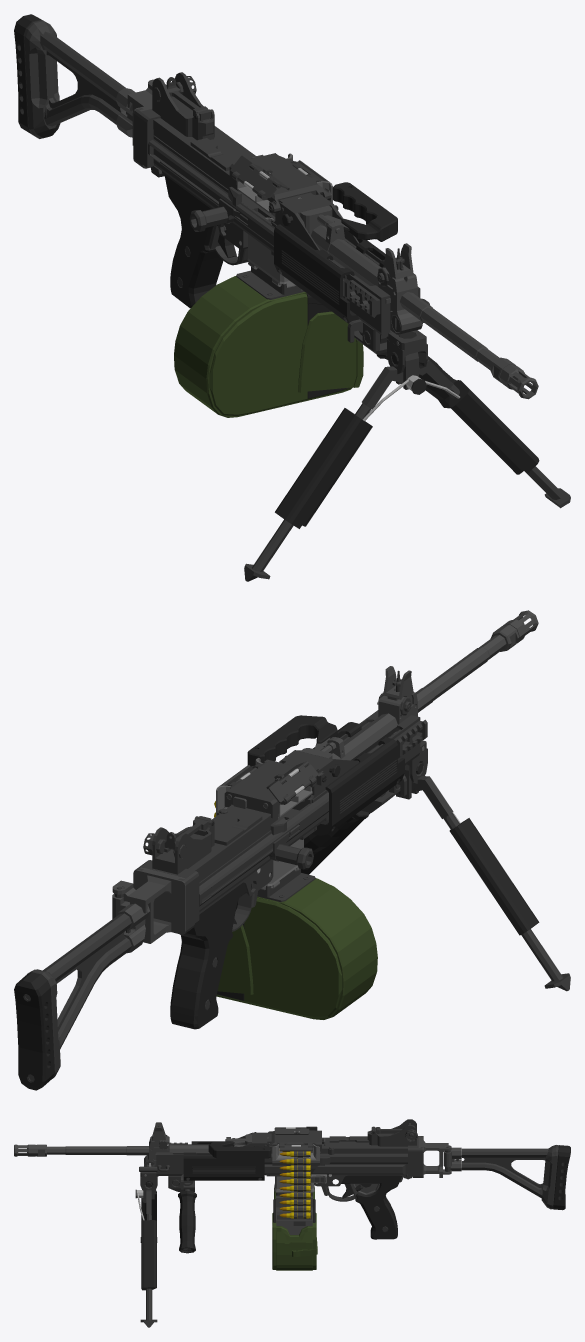
File: negev.glb
The picture shows the model from 3 angles, top to bottom: view 1: azimuth 30°, elevation 25°; view 2: azimuth 150°, elevation 25°; view 3: azimuth 270°, elevation 25°; orthographic projection. The views are drawn at different scales.
Visible parts, largest first — view 1: IWI Negev NG-5 2, IWI Negev NG-5 2 Ammo Bag 1, IWI Negev NG-5 2 Barrel 1, IWI Negev NG-5 2 Stock 1 Part 1_IWI Negev NG-5 2 Material 2_, IWI Negev NG-5 2 Bipod Leg 1, IWI Negev NG-5 2 Ammo Bag 1 Cover 1_IWI Negev NG-5 2 Materia, IWI Negev NG-5 2 Bipod Leg 1.001_IWI Negev NG-5 2 Material 4, IWI Negev NG-5 2 Carry Handle 1_IWI Negev NG-5 2 Material 4_, IWI Negev NG-5 2 Rearsight 1, IWI Negev NG-5 2 Top Cover 1, IWI Negev NG-5 2 Stock 1 Part 1_IWI Negev NG-5 2 Material 4_, IWI Negev NG-5 2 Bipod Leg 1.001_IWI Negev NG-5 2 Material 2 (+5 smaller); view 2: IWI Negev NG-5 2, IWI Negev NG-5 2 Ammo Bag 1, IWI Negev NG-5 2 Barrel 1, IWI Negev NG-5 2 Bipod Leg 1, IWI Negev NG-5 2 Stock 1 Part 1_IWI Negev NG-5 2 Material 2_, IWI Negev NG-5 2 Stock 1 Part 1_IWI Negev NG-5 2 Material 4_, IWI Negev NG-5 2 Stock 1, IWI Negev NG-5 2 Top Cover 1, IWI Negev NG-5 2 Carry Handle 1_IWI Negev NG-5 2 Material 4_, IWI Negev NG-5 2 Rearsight 1, IWI Negev NG-5 2 Ammo Bag 1 Cover 1_IWI Negev NG-5 2 Materia, IWI Negev NG-5 2 Stock 1 Part 1_IWI Negev NG-5 2 Material 1_ (+4 smaller); view 3: IWI Negev NG-5 2, IWI Negev NG-5 2 Stock 1 Part 1_IWI Negev NG-5 2 Material 2_, IWI Negev NG-5 2 Barrel 1, IWI Negev NG-5 2 Ammo Bag 1 Cover 1_IWI Negev NG-5 2 Materia, IWI Negev NG-5 2 Bipod Leg 1.001_IWI Negev NG-5 2 Material 4, IWI Negev NG-5 2 Ammo Bag 1, IWI Negev NG-5 2 Grip 1, IWI Negev NG-5 2 Carry Handle 1_IWI Negev NG-5 2 Material 4_, IWI Negev NG-5 2 Rearsight 1, IWI Negev NG-5 2 Stock 1 Part 1_IWI Negev NG-5 2 Material 4_, IWI Negev NG-5 2 Top Cover 1, IWI Negev NG-5 2 Stock 1 (+4 smaller).
Boxes of the visible parts, x1=… form: IWI Negev NG-5 2: x1=134, y1=108, x2=429, y2=350; IWI Negev NG-5 2 Ammo Bag 1: x1=174, y1=220, x2=352, y2=417; IWI Negev NG-5 2 Barrel 1: x1=300, y1=205, x2=538, y2=399; IWI Negev NG-5 2 Stock 1 Part 1_IWI Negev NG-5 2 Material 2_: x1=24, y1=20, x2=127, y2=138; IWI Negev NG-5 2 Bipod Leg 1: x1=244, y1=366, x2=419, y2=581; IWI Negev NG-5 2 Ammo Bag 1 Cover 1_IWI Negev NG-5 2 Materia: x1=298, y1=311, x2=363, y2=392; IWI Negev NG-5 2 Bipod Leg 1.001_IWI Negev NG-5 2 Material 4: x1=449, y1=380, x2=539, y2=474; IWI Negev NG-5 2 Carry Handle 1_IWI Negev NG-5 2 Material 4_: x1=332, y1=182, x2=397, y2=241; IWI Negev NG-5 2 Rearsight 1: x1=152, y1=72, x2=214, y2=140; IWI Negev NG-5 2 Top Cover 1: x1=229, y1=153, x2=331, y2=213; IWI Negev NG-5 2 Stock 1 Part 1_IWI Negev NG-5 2 Material 4_: x1=14, y1=14, x2=41, y2=133; IWI Negev NG-5 2 Bipod Leg 1.001_IWI Negev NG-5 2 Material 2: x1=419, y1=359, x2=570, y2=508; IWI Negev NG-5 2: x1=135, y1=710, x2=427, y2=1029; IWI Negev NG-5 2 Ammo Bag 1: x1=216, y1=869, x2=377, y2=1019; IWI Negev NG-5 2 Barrel 1: x1=300, y1=610, x2=538, y2=760; IWI Negev NG-5 2 Bipod Leg 1: x1=411, y1=776, x2=570, y2=991; IWI Negev NG-5 2 Stock 1 Part 1_IWI Negev NG-5 2 Material 2_: x1=26, y1=913, x2=131, y2=1078; IWI Negev NG-5 2 Stock 1 Part 1_IWI Negev NG-5 2 Material 4_: x1=14, y1=972, x2=54, y2=1090; IWI Negev NG-5 2 Stock 1: x1=112, y1=867, x2=185, y2=943; IWI Negev NG-5 2 Top Cover 1: x1=224, y1=759, x2=326, y2=818; IWI Negev NG-5 2 Carry Handle 1_IWI Negev NG-5 2 Material 4_: x1=247, y1=715, x2=337, y2=766; IWI Negev NG-5 2 Rearsight 1: x1=152, y1=816, x2=214, y2=874; IWI Negev NG-5 2 Ammo Bag 1 Cover 1_IWI Negev NG-5 2 Materia: x1=217, y1=925, x2=253, y2=994; IWI Negev NG-5 2 Stock 1 Part 1_IWI Negev NG-5 2 Material 1_: x1=24, y1=893, x2=149, y2=1081; IWI Negev NG-5 2: x1=140, y1=1132, x2=422, y2=1239; IWI Negev NG-5 2 Stock 1 Part 1_IWI Negev NG-5 2 Material 2_: x1=456, y1=1145, x2=558, y2=1209; IWI Negev NG-5 2 Barrel 1: x1=14, y1=1122, x2=251, y2=1166; IWI Negev NG-5 2 Ammo Bag 1 Cover 1_IWI Negev NG-5 2 Materia: x1=272, y1=1213, x2=317, y2=1269; IWI Negev NG-5 2 Bipod Leg 1.001_IWI Negev NG-5 2 Material 4: x1=141, y1=1220, x2=156, y2=1290; IWI Negev NG-5 2 Ammo Bag 1: x1=273, y1=1187, x2=315, y2=1270; IWI Negev NG-5 2 Grip 1: x1=178, y1=1189, x2=196, y2=1253; IWI Negev NG-5 2 Carry Handle 1_IWI Negev NG-5 2 Material 4_: x1=208, y1=1141, x2=271, y2=1158; IWI Negev NG-5 2 Rearsight 1: x1=367, y1=1119, x2=416, y2=1146; IWI Negev NG-5 2 Stock 1 Part 1_IWI Negev NG-5 2 Material 4_: x1=553, y1=1145, x2=570, y2=1210; IWI Negev NG-5 2 Top Cover 1: x1=267, y1=1130, x2=321, y2=1152; IWI Negev NG-5 2 Stock 1: x1=418, y1=1136, x2=451, y2=1177.
Bounding box in the file's own units: 0.4823 × 0.4178 × 1.3.
